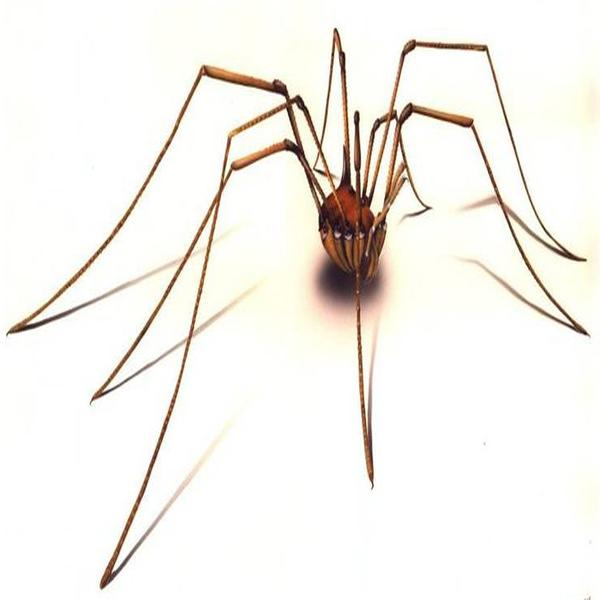Daddy Long Legs Spider: (25, 26, 587, 563)
